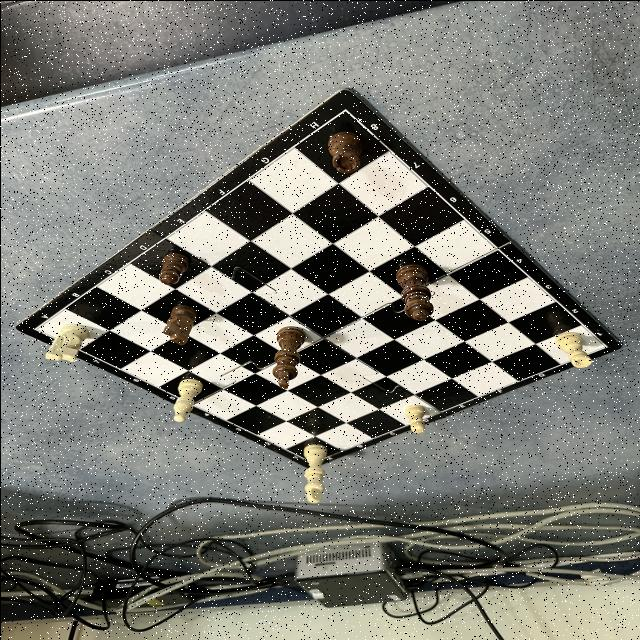Black-King: (272, 326, 302, 388)
Black-Knight: (163, 302, 193, 344)
Black-Pawn: (157, 252, 187, 284)
Black-Queen: (396, 262, 431, 320)
Black-Rook: (325, 132, 364, 174)
White-Bishop: (173, 378, 200, 424)
White-King: (303, 442, 325, 502)
White-Knight: (43, 324, 87, 362)
White-Pawn: (406, 403, 424, 433)
White-Rook: (555, 332, 591, 368)
